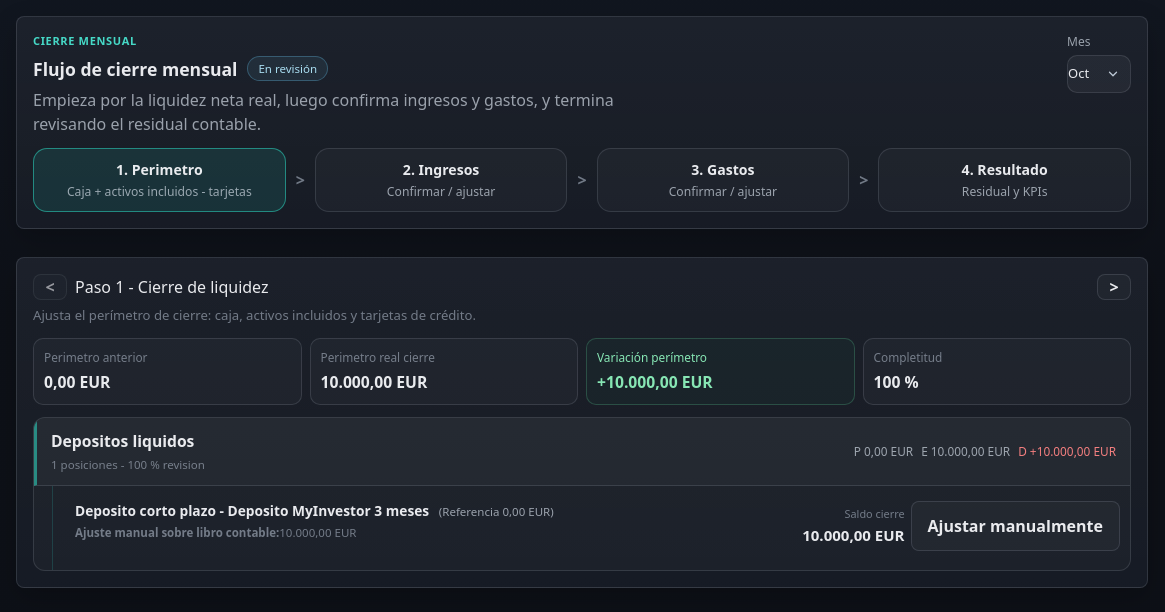
Test: BudgetDashboardView › opens linked manual liquidity checkins with the ledger adjustment controls
The width and height of the screenshot is (1165, 612).
Click the button "Ajustar manualmente" at coordinates (1015, 526), box [910,501,1120,551]
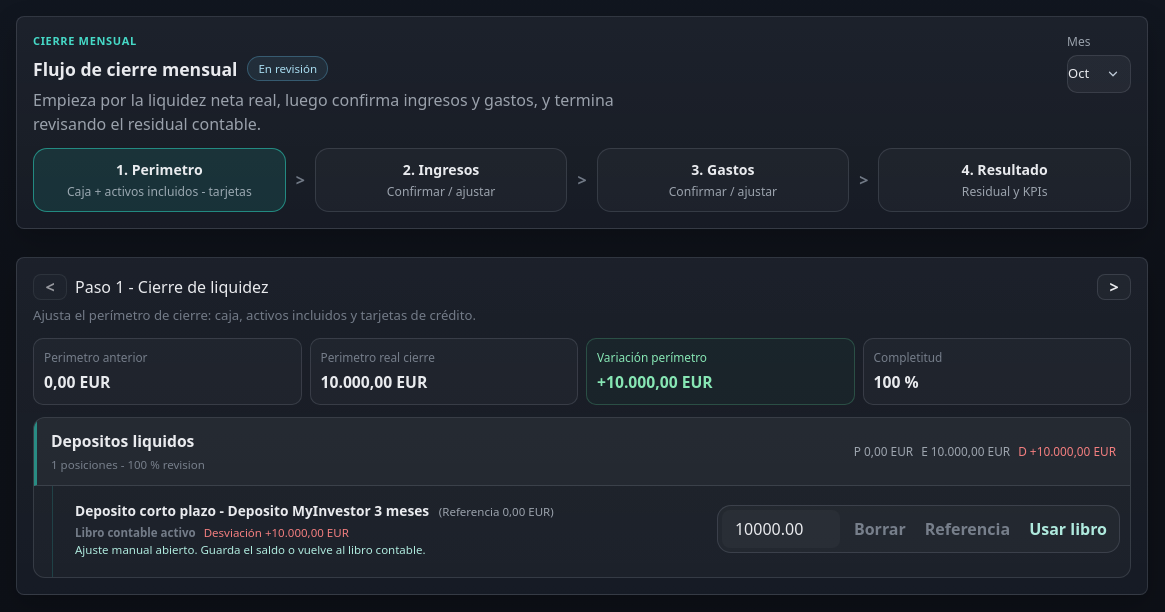
Result: the field with placeholder "Saldo real" holds "10000.00" at [722,510,840,548]
Result: the text "Libro contable activo" is shown at [75,525,196,540]
Result: the text "Ajuste manual abierto" is shown at [75,542,426,557]
